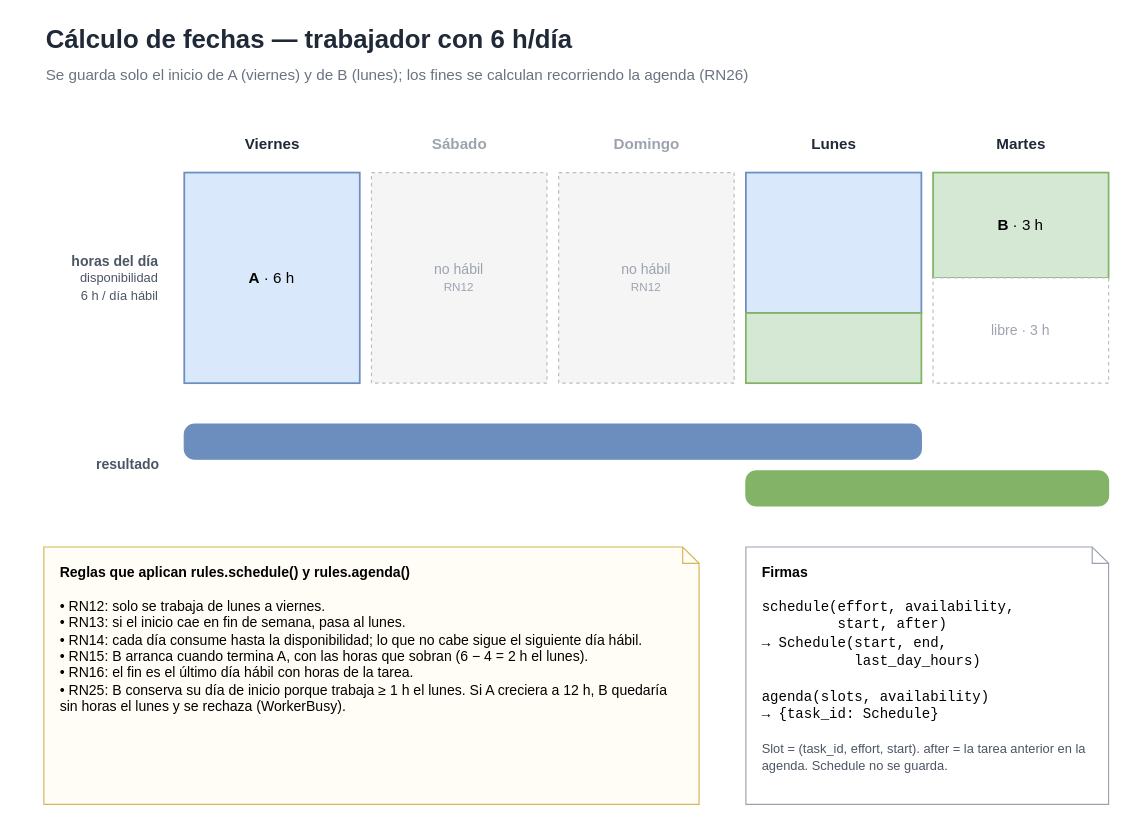
Image size: 1129x825. Some labels were removed from this diagram. The centre of each missing label's shape, as x and y in pixels:
"A (10 h): start = viernes → end = lunes (calculado)" goes at [552,441].
"A · 4 h" goes at [833,242].
"B (5 h): lunes → martes (calculado)" goes at [927,488].
"B · 2 h" goes at [833,348].
